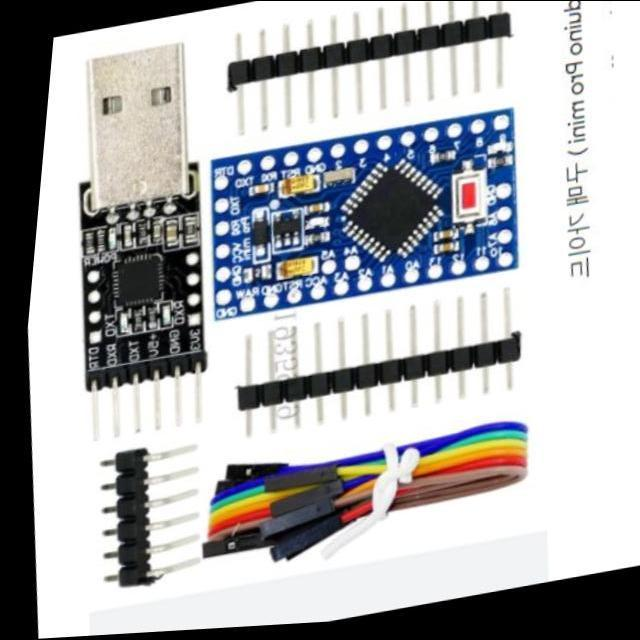Arduino-ProMini: (212, 110, 518, 320)
